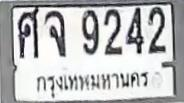2: (103, 8, 122, 54), (148, 6, 166, 53)
4: (126, 6, 144, 54)
9: (81, 9, 98, 54)
A08: (44, 10, 66, 57)
A38: (17, 6, 39, 58)
BKK: (33, 71, 152, 99)
